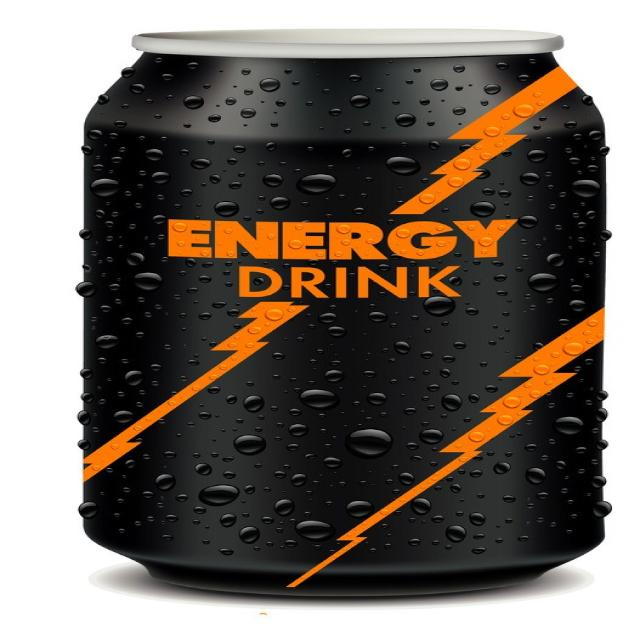Cans: (60, 18, 640, 600)
